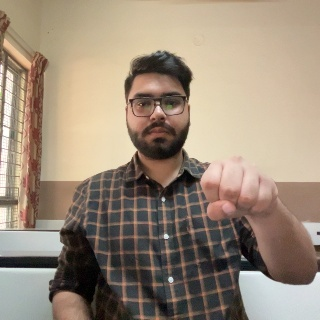Face: (124, 60, 190, 166)
Yes: (200, 154, 287, 232)
